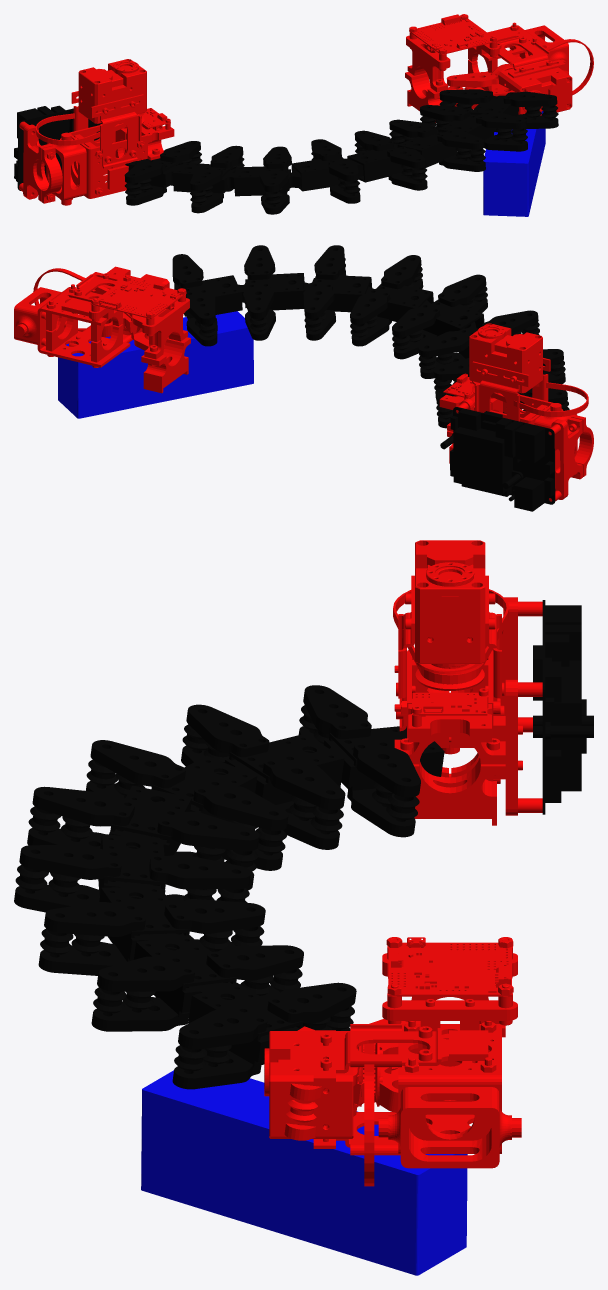
File: ducted_fan_baselink_spine_shaped.dae
The picture shows the model from 3 angles, top to bottom: view 1: azimuth 30°, elevation 25°; view 2: azimuth 150°, elevation 25°; view 3: azimuth 270°, elevation 25°; orthographic projection. The views are drawn at different scales.
Visible parts, largest first — view 1: ducted_fan_baselink_spine_shaped - spine_for_dragon-1 tail_. (×32), ducted_fan_baselink_spine_shaped - zippy-3000Amh-6s-1, ducted_fan_baselink_spine_shaped - joint-1 x-430_idle-1 X-43, ducted_fan_baselink_spine_shaped - joint-1 joint_servo_holde (×2), ducted_fan_baselink_spine_shaped - d_board-1 fc_stm32f7_v3-1, ducted_fan_baselink_spine_shaped - joint-1 joint_pipe_holder, ducted_fan_baselink_spine_shaped - odroidu4-1 Odroid XU4-1, ducted_fan_baselink_spine_shaped - joint-2 x-430_idle-1 X-43, ducted_fan_baselink_spine_shaped - joint-1 joint_connection_, ducted_fan_baselink_spine_shaped - odroidu4-1 odroidu4_holde, ducted_fan_baselink_spine_shaped - joint-2 joint_servo_holde, ducted_fan_baselink_spine_shaped - d_board-1 d_board_holder2 (+10 smaller); view 2: ducted_fan_baselink_spine_shaped - spine_for_dragon-1 tail_. (×23), ducted_fan_baselink_spine_shaped - zippy-3000Amh-6s-1, ducted_fan_baselink_spine_shaped - odroidu4-1 Odroid XU4-1, ducted_fan_baselink_spine_shaped - joint-1 x-430_idle-1 X-43, ducted_fan_baselink_spine_shaped - joint-2 joint_pipe_holder, ducted_fan_baselink_spine_shaped - joint-1 joint_servo_holde (×2), ducted_fan_baselink_spine_shaped - d_board-1 fc_stm32f7_v3-1, ducted_fan_baselink_spine_shaped - d_board-1 25mm_pipe_batte, ducted_fan_baselink_spine_shaped - odroidu4-1 odroidu4_holde, ducted_fan_baselink_spine_shaped - d_board-1 d_board_holder2, ducted_fan_baselink_spine_shaped - joint-2 joint_connection_, ducted_fan_baselink_spine_shaped - spine_for_dragon-1 tail_p (+10 smaller); view 3: ducted_fan_baselink_spine_shaped - spine_for_dragon-1 tail_. (×30), ducted_fan_baselink_spine_shaped - zippy-3000Amh-6s-1, ducted_fan_baselink_spine_shaped - joint-1 x-430_idle-1 X-43, ducted_fan_baselink_spine_shaped - odroidu4-1 Odroid XU4-1, ducted_fan_baselink_spine_shaped - joint-2 joint_connection_, ducted_fan_baselink_spine_shaped - d_board-1 fc_stm32f7_v3-1, ducted_fan_baselink_spine_shaped - joint-2 x-430_idle-1 X-43, ducted_fan_baselink_spine_shaped - joint-2 joint_servo_holde (×2), ducted_fan_baselink_spine_shaped - joint-2 joint_pipe_holder, ducted_fan_baselink_spine_shaped - neuron_set-1 25mm_pipe_ba, ducted_fan_baselink_spine_shaped - odroidu4-1 odroidu4_holde (×2), ducted_fan_baselink_spine_shaped - neuron_set-1 neuron_board (+8 smaller).
Boxes of the visible parts, box(x1,y1,x2,y2) form: ducted_fan_baselink_spine_shaped - spine_for_dragon-1 tail_. (×32): box(124, 72, 558, 214); ducted_fan_baselink_spine_shaped - zippy-3000Amh-6s-1: box(483, 111, 545, 216); ducted_fan_baselink_spine_shaped - joint-1 x-430_idle-1 X-43: box(78, 59, 146, 123); ducted_fan_baselink_spine_shaped - joint-1 joint_servo_holde (×2): box(71, 91, 143, 168); ducted_fan_baselink_spine_shaped - d_board-1 fc_stm32f7_v3-1: box(409, 14, 497, 54); ducted_fan_baselink_spine_shaped - joint-1 joint_pipe_holder: box(69, 125, 147, 198); ducted_fan_baselink_spine_shaped - odroidu4-1 Odroid XU4-1: box(14, 105, 101, 190); ducted_fan_baselink_spine_shaped - joint-2 x-430_idle-1 X-43: box(498, 67, 572, 115); ducted_fan_baselink_spine_shaped - joint-1 joint_connection_: box(46, 132, 86, 205); ducted_fan_baselink_spine_shaped - odroidu4-1 odroidu4_holde: box(23, 124, 52, 201); ducted_fan_baselink_spine_shaped - joint-2 joint_servo_holde: box(497, 36, 565, 78); ducted_fan_baselink_spine_shaped - d_board-1 d_board_holder2: box(406, 35, 450, 92); ducted_fan_baselink_spine_shaped - spine_for_dragon-1 tail_. (×23): box(172, 245, 567, 403); ducted_fan_baselink_spine_shaped - zippy-3000Amh-6s-1: box(58, 311, 253, 418); ducted_fan_baselink_spine_shaped - odroidu4-1 Odroid XU4-1: box(440, 407, 555, 511); ducted_fan_baselink_spine_shaped - joint-1 x-430_idle-1 X-43: box(469, 323, 542, 393); ducted_fan_baselink_spine_shaped - joint-2 joint_pipe_holder: box(37, 287, 130, 367); ducted_fan_baselink_spine_shaped - joint-1 joint_servo_holde (×2): box(472, 358, 550, 421); ducted_fan_baselink_spine_shaped - d_board-1 fc_stm32f7_v3-1: box(90, 279, 186, 318); ducted_fan_baselink_spine_shaped - d_board-1 25mm_pipe_batte: box(141, 337, 190, 393); ducted_fan_baselink_spine_shaped - odroidu4-1 odroidu4_holde: box(551, 417, 582, 499); ducted_fan_baselink_spine_shaped - d_board-1 d_board_holder2: box(142, 298, 189, 359); ducted_fan_baselink_spine_shaped - joint-2 joint_connection_: box(14, 287, 61, 344); ducted_fan_baselink_spine_shaped - spine_for_dragon-1 tail_p: box(423, 300, 484, 336); ducted_fan_baselink_spine_shaped - spine_for_dragon-1 tail_. (×30): box(14, 685, 444, 1112); ducted_fan_baselink_spine_shaped - zippy-3000Amh-6s-1: box(141, 1070, 467, 1275); ducted_fan_baselink_spine_shaped - joint-1 x-430_idle-1 X-43: box(415, 540, 485, 666); ducted_fan_baselink_spine_shaped - odroidu4-1 Odroid XU4-1: box(533, 600, 593, 814); ducted_fan_baselink_spine_shaped - joint-2 joint_connection_: box(378, 1087, 521, 1168); ducted_fan_baselink_spine_shaped - d_board-1 fc_stm32f7_v3-1: box(388, 937, 511, 996); ducted_fan_baselink_spine_shaped - joint-2 x-430_idle-1 X-43: box(264, 1031, 358, 1138); ducted_fan_baselink_spine_shaped - joint-2 joint_servo_holde (×2): box(313, 1024, 441, 1155); ducted_fan_baselink_spine_shaped - joint-2 joint_pipe_holder: box(398, 1024, 501, 1153); ducted_fan_baselink_spine_shaped - neuron_set-1 25mm_pipe_ba: box(413, 758, 505, 825); ducted_fan_baselink_spine_shaped - odroidu4-1 odroidu4_holde (×2): box(451, 597, 517, 815); ducted_fan_baselink_spine_shaped - neuron_set-1 neuron_board: box(394, 703, 505, 764).
Size of the model in its own units: 0.471 by 0.2349 by 0.1449.
